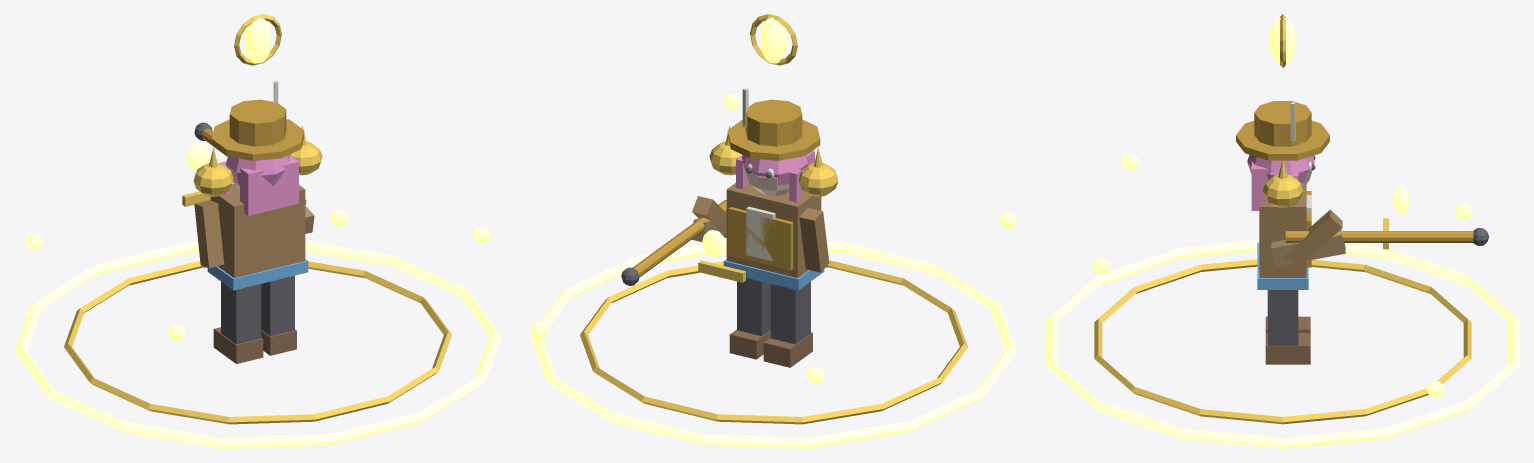
Rendered from hero_musketeer.glb.
3 renders of one model, left to right at view 1: azimuth 30°, elevation 25°; view 2: azimuth 150°, elevation 25°; view 3: azimuth 270°, elevation 25°, orthographic.
Visible parts, largest first — view 1: hero_musketeer; view 2: hero_musketeer; view 3: hero_musketeer.
Boxes of the visible parts, box(x1,y1,x2,y2) form: hero_musketeer: box(14, 14, 501, 448); hero_musketeer: box(530, 14, 1017, 448); hero_musketeer: box(1046, 14, 1519, 448).
Bounding box in the file's own units: 5.32 × 4.02 × 5.19.
